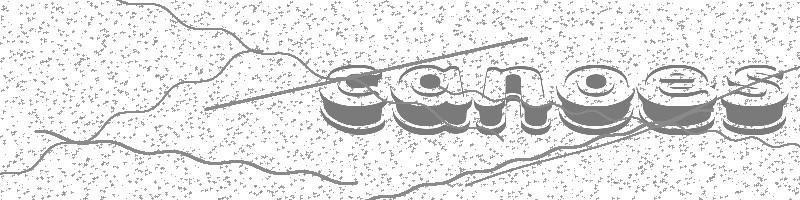a: (390, 62, 473, 136)
c: (318, 62, 387, 137)
e: (636, 63, 717, 136)
n: (473, 65, 552, 137)
o: (554, 64, 635, 136)
s: (720, 64, 788, 136)
